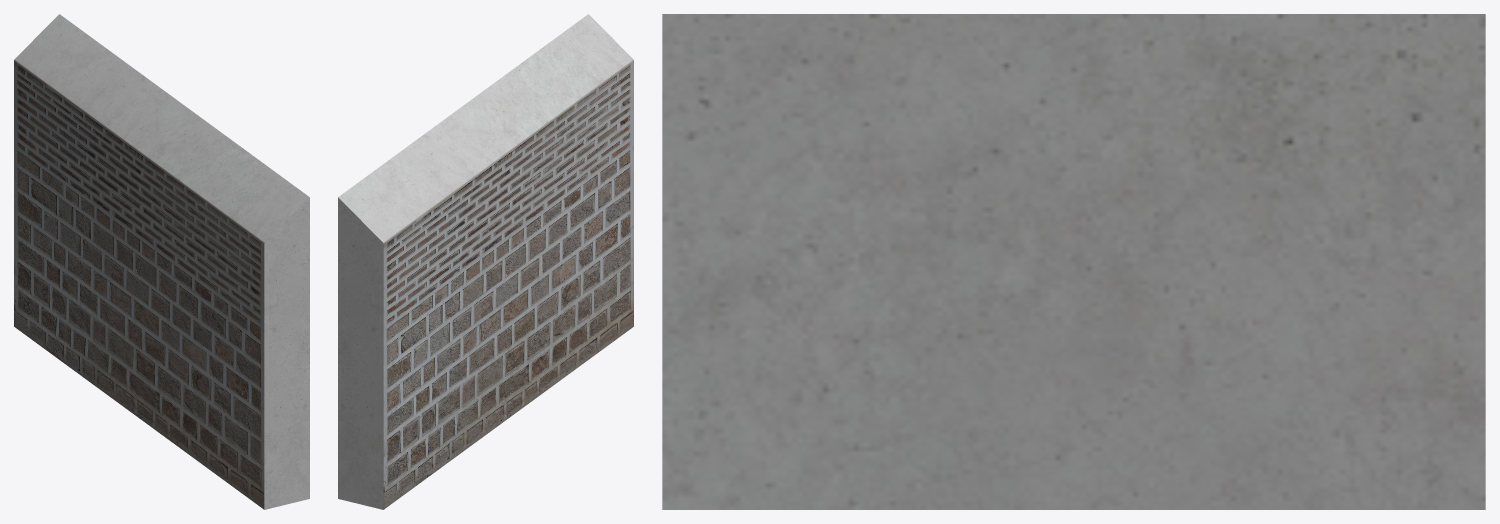
Rendered from SM_SJJ_HG_Hwabang02a_09.fbx.
The picture shows the model from 3 angles, left to right: view 1: azimuth 30°, elevation 25°; view 2: azimuth 150°, elevation 25°; view 3: azimuth 270°, elevation 25°; orthographic projection. The views are drawn at different scales.
Visible parts, largest first — view 1: SM_SJJ_HG_Hwabang02a_09; view 2: SM_SJJ_HG_Hwabang02a_09; view 3: SM_SJJ_HG_Hwabang02a_09.
Part boxes in pixels (x1,y1,x2,y2): SM_SJJ_HG_Hwabang02a_09: [14, 14, 309, 509]; SM_SJJ_HG_Hwabang02a_09: [338, 14, 633, 509]; SM_SJJ_HG_Hwabang02a_09: [662, 14, 1485, 509].
Size of the model in its own units: 30.32 by 290 by 192.
1 material, 1 textured.
